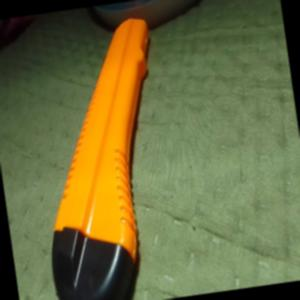estilete: (18, 14, 186, 300)
